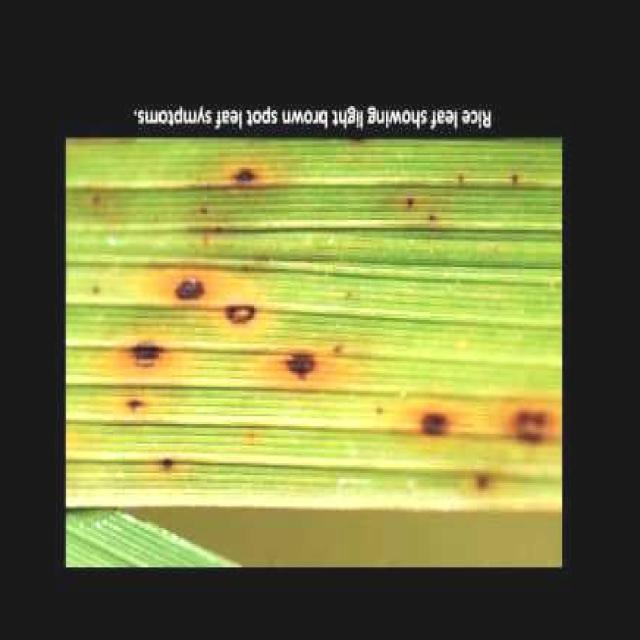Brown_Spot: (267, 336, 339, 414), (490, 395, 564, 469), (400, 395, 470, 465), (207, 161, 274, 202), (164, 275, 222, 320), (119, 332, 163, 385), (215, 298, 262, 339), (150, 446, 186, 490), (462, 471, 502, 499), (121, 392, 152, 427)
